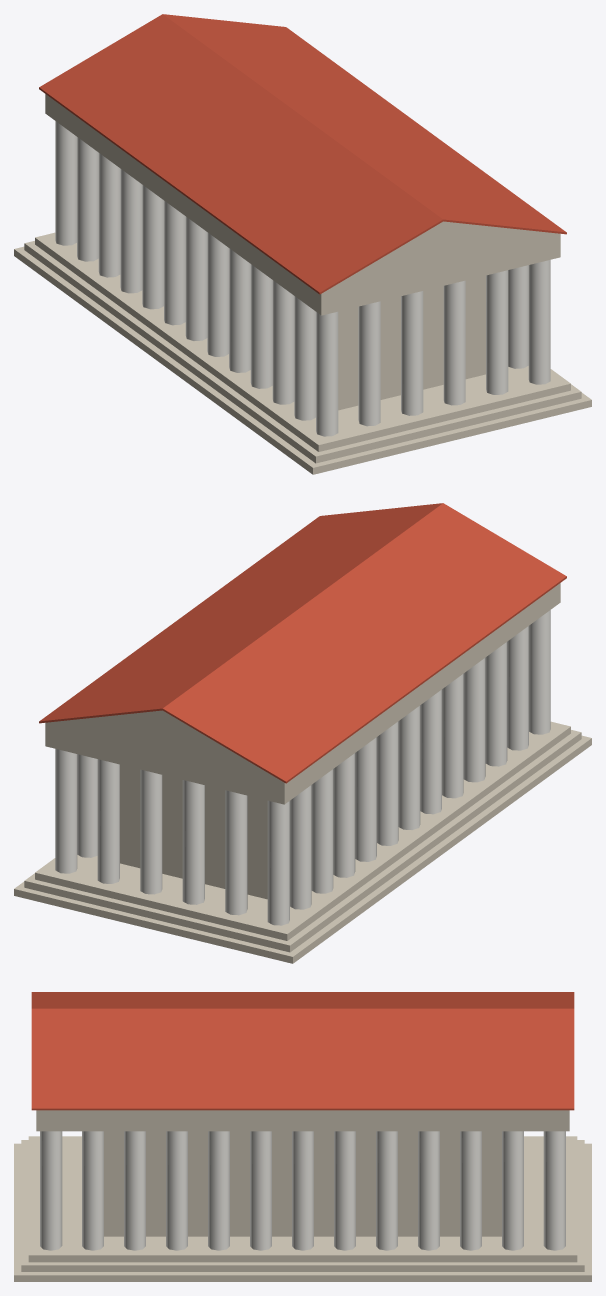
Rendered from temple_dorique.glb.
The picture shows the model from 3 angles, top to bottom: view 1: azimuth 30°, elevation 25°; view 2: azimuth 150°, elevation 25°; view 3: azimuth 270°, elevation 25°; orthographic projection. The views are drawn at different scales.
Visible parts, largest first — view 1: temple_dorique; view 2: temple_dorique; view 3: temple_dorique.
Part boxes in pixels (x1,y1,x2,y2): temple_dorique: (14,14,591,474); temple_dorique: (14,503,591,963); temple_dorique: (14,992,591,1281).
Size of the model in its own units: 21 by 15.44 by 39.
1 material, 1 textured.
